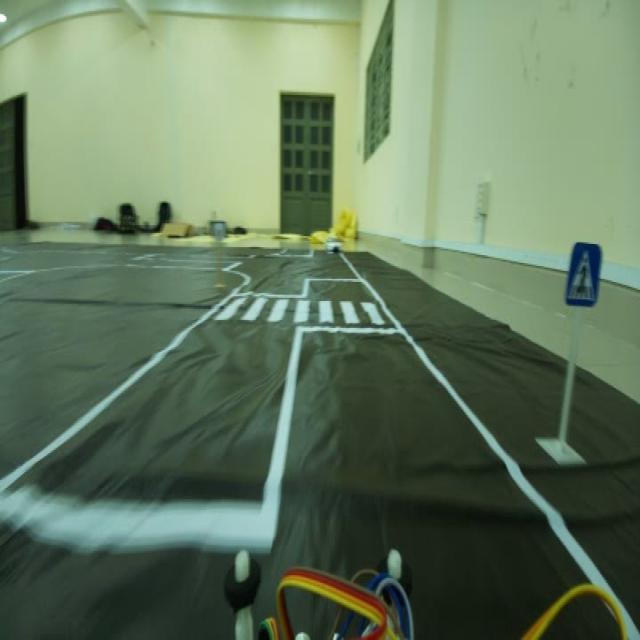crosswalk: (557, 234, 606, 311)
